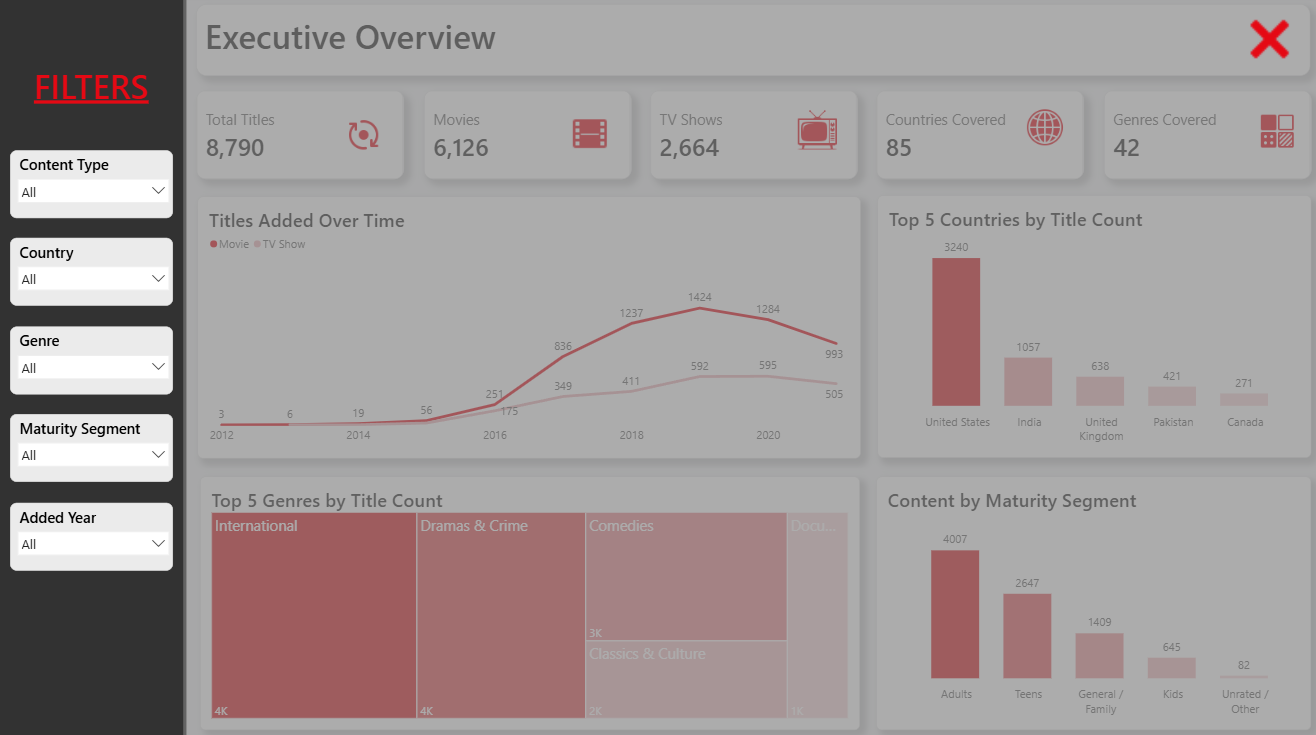

The dashboard page shown, as its layout file describes it:
{"tool":"powerbi","page":{"name":"Executive Overview","canvas":[1920,1080],"ordinal":1},"visuals":[{"type":"shape","box":[0,0,277.3,1079.6],"z":0,"group":"g7"},{"type":"textbox","box":[292.1,14.8,1613.1,103.7],"z":0},{"type":"image","box":[1798.8,38,90.5,57.9],"z":0,"group":"g1"},{"type":"cardVisual","fields":{"Data":["_Measures.Total Titles"]},"box":[292.1,139.7,300.6,129.1],"z":0,"group":"g2"},{"type":"cardVisual","fields":{"Data":["_Measures.Movies"]},"box":[620.2,139.7,300.6,129.1],"z":0,"group":"g3"},{"type":"cardVisual","fields":{"Data":["_Measures.TV Shows"]},"box":[948.4,139.7,300.6,129.1],"z":0,"group":"g4"},{"type":"cardVisual","fields":{"Data":["_Measures.Countries Covered"]},"box":[1276.5,139.7,300.6,129.1],"z":0,"group":"g5"},{"type":"cardVisual","fields":{"Data":["_Measures.Genres Covered"]},"box":[1604.6,139.7,300.6,129.1],"z":0,"group":"g6"},{"type":"image","box":[36.6,0,194.1,185.7],"z":1000,"group":"g7"},{"type":"image","box":[1693.8,38,90.5,57.9],"z":1000,"group":"g1"},{"type":"group","id":"g1","title":"Filter Controls","box":[1693.8,38,195.4,57.9],"z":1000},{"type":"image","box":[1487.4,164.8,65,56.6],"z":1000,"group":"g5"},{"type":"image","box":[1157.8,168.5,65,56.6],"z":1000,"group":"g4"},{"type":"image","box":[1822.6,169.8,67.7,57.2],"z":1000,"group":"g6"},{"type":"image","box":[828,174,65,56.6],"z":1000,"group":"g3"},{"type":"image","box":[501.7,176.6,65,56.6],"z":1000,"group":"g2"},{"type":"group","id":"g2","title":"Group 1","box":[292.1,139.7,300.6,129.1],"z":2000},{"type":"pageNavigator","box":[21.2,205.3,230.7,469.9],"z":2000,"group":"g7"},{"type":"group","id":"g3","title":"Group 2","box":[620.2,139.7,300.6,129.1],"z":3000},{"type":"group","id":"g4","title":"Group 3","box":[948.4,139.7,300.6,129.1],"z":4000},{"type":"group","id":"g5","title":"Group 4","box":[1276.5,139.7,300.6,129.1],"z":5000},{"type":"group","id":"g6","title":"Group 5","box":[1604.6,139.7,300.6,129.1],"z":6000},{"type":"lineChart","title":"Titles Added Over Time","fields":{"Category":["DimDate.Date Hierarchy.Year","DimDate.Date Hierarchy.Quarter","DimDate.Date Hierarchy.Month Full Name"],"Series":["Shows.type"],"Y":["_Measures.Total Titles"]},"box":[292.3,292.3,960,379.3],"z":7000},{"type":"group","id":"g7","title":"Group 6","box":[0,0,277.3,1079.6],"z":8000},{"type":"columnChart","title":"Top 5 Countries by Title Count","fields":{"Category":["Shows.country"],"Y":["_Measures.Total Titles"]},"box":[1277.6,291.4,628,380],"z":9000},{"type":"columnChart","title":"Content by Maturity Segment","fields":{"Category":["Shows.Maturity_Segment"],"Y":["_Measures.Total Titles"]},"box":[1275.8,698.5,629.8,367.4],"z":10000},{"type":"treemap","title":"Top 5 Genres by Title Count","fields":{"Group":["ShowGenre.Clean_Genre"],"Values":["_Measures.Titles by Genre"]},"box":[296.8,698.5,955.5,367.4],"z":11000}]}

Visuals, with their boxes in screenshot pixels (x1, y1, x2, y2), scaled from the page's 1920x1080 canvas onto the 1316x735 screenshot:
shape: bbox=[0, 0, 190, 734]
textbox: bbox=[200, 10, 1306, 81]
image: bbox=[1233, 26, 1295, 65]
cardVisual - _Measures.Total Titles: bbox=[200, 95, 406, 183]
cardVisual - _Measures.Movies: bbox=[425, 95, 631, 183]
cardVisual - _Measures.TV Shows: bbox=[650, 95, 856, 183]
cardVisual - _Measures.Countries Covered: bbox=[875, 95, 1081, 183]
cardVisual - _Measures.Genres Covered: bbox=[1100, 95, 1306, 183]
image: bbox=[25, 0, 158, 126]
image: bbox=[1161, 26, 1223, 65]
"Filter Controls" group: bbox=[1161, 26, 1295, 65]
image: bbox=[1019, 112, 1064, 151]
image: bbox=[794, 115, 838, 153]
image: bbox=[1249, 116, 1296, 154]
image: bbox=[568, 118, 612, 157]
image: bbox=[344, 120, 388, 159]
"Group 1" group: bbox=[200, 95, 406, 183]
pageNavigator: bbox=[15, 140, 173, 460]
"Group 2" group: bbox=[425, 95, 631, 183]
"Group 3" group: bbox=[650, 95, 856, 183]
"Group 4" group: bbox=[875, 95, 1081, 183]
"Group 5" group: bbox=[1100, 95, 1306, 183]
"Titles Added Over Time" lineChart: bbox=[200, 199, 858, 457]
"Group 6" group: bbox=[0, 0, 190, 734]
"Top 5 Countries by Title Count" columnChart: bbox=[876, 198, 1306, 457]
"Content by Maturity Segment" columnChart: bbox=[874, 475, 1306, 725]
"Top 5 Genres by Title Count" treemap: bbox=[203, 475, 858, 725]
